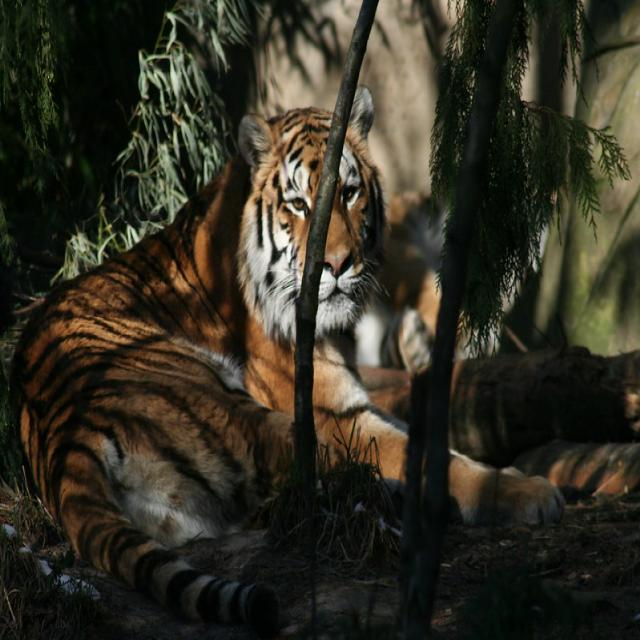Tiger: (6, 80, 570, 634)
